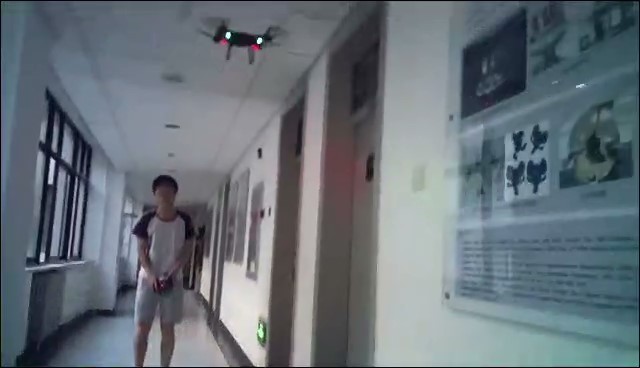drone: (188, 13, 293, 66)
person: (129, 175, 197, 368)
